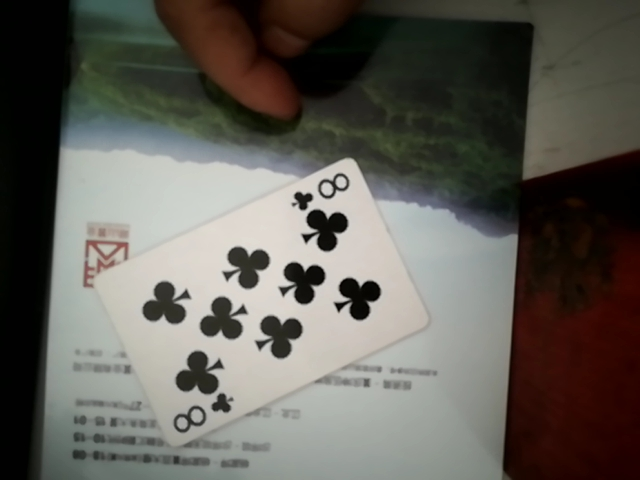mh 8: (94, 151, 429, 440)
